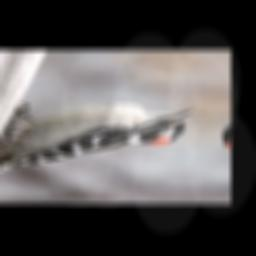Woodpecker: (0, 95, 194, 189)
